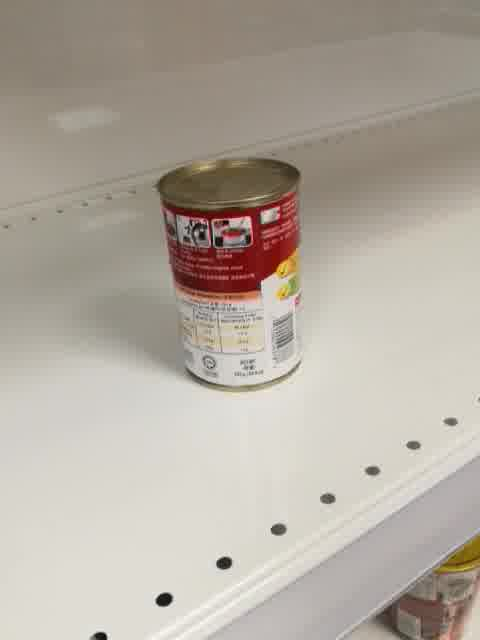tomatosoup: (156, 154, 305, 395)
